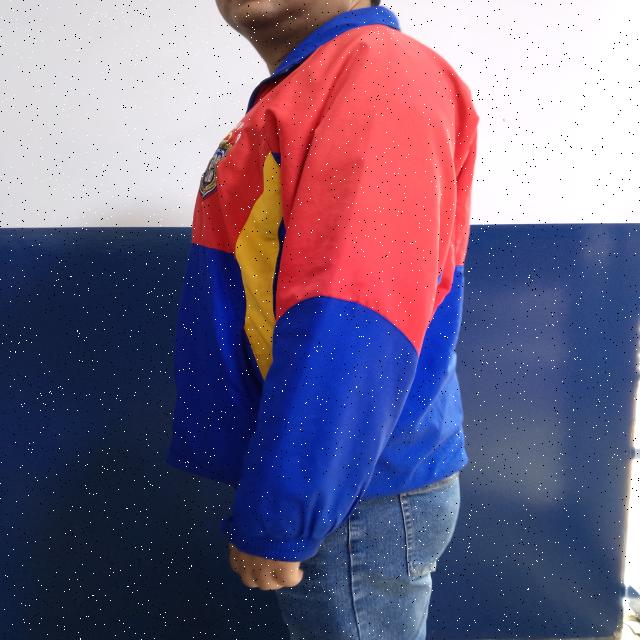chaqueta_unefa: (168, 6, 480, 563)
